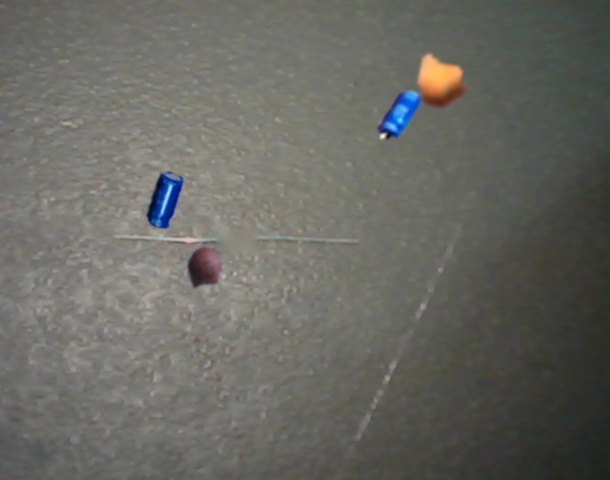capacitor: (417, 54, 466, 109), (377, 91, 424, 139), (147, 171, 184, 229), (187, 246, 222, 288)
